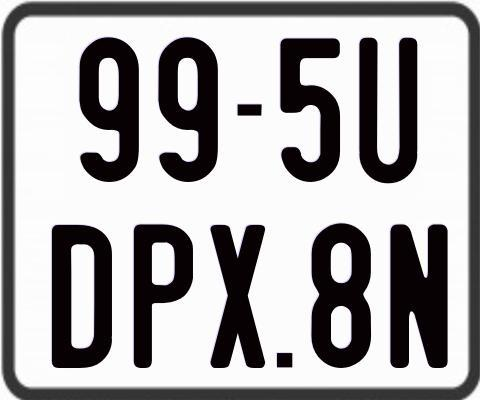5: (278, 36, 343, 182)
8: (308, 222, 370, 372)
9: (155, 35, 220, 184), (77, 37, 137, 182)
D: (51, 223, 111, 371)
N: (388, 223, 451, 370)
P: (131, 224, 195, 374)
U: (356, 37, 420, 188)
X: (210, 224, 269, 370)
